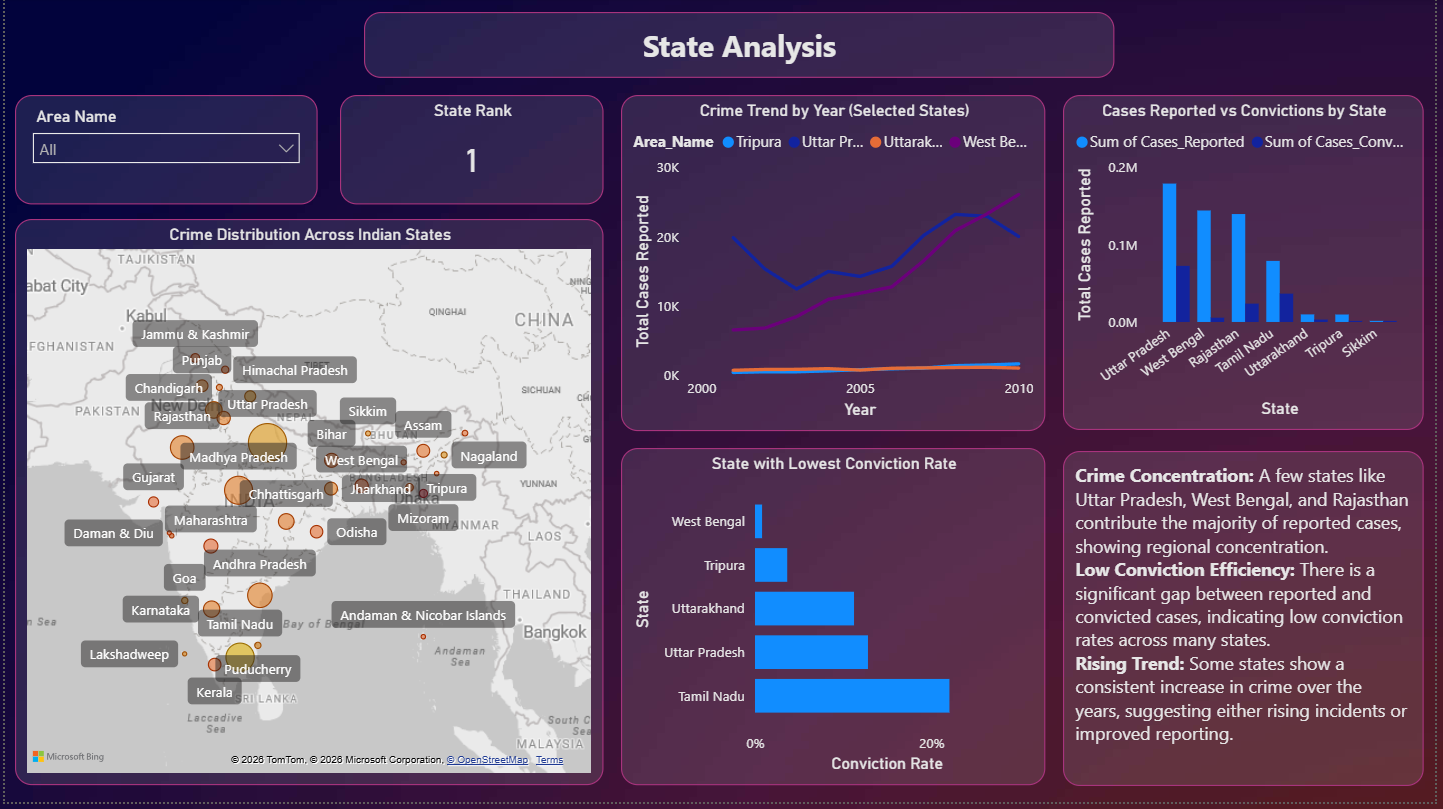

The dashboard page shown, as its layout file describes it:
{"tool":"powerbi","page":{"name":"State-wise Analysis","canvas":[1280,720],"ordinal":1},"visuals":[{"type":"map","title":"Crime Distribution Across Indian States","fields":{"Size":["Sum(CrimeData.Cases_Convicted)"],"Category":["CrimeData.Area_Name"]},"box":[8.6,198.1,527,507.5],"z":0},{"type":"lineChart","title":"Crime Trend by Year (Selected States)","fields":{"Category":["CrimeData.Year"],"Y":["Sum(CrimeData.Cases_Reported)"],"Series":["CrimeData.Area_Name"]},"box":[551.6,86.4,380.1,300.5],"z":2000},{"type":"slicer","fields":{"Values":["CrimeData.Area_Name","CrimeData.Year","CrimeData.Group_Name"]},"box":[8.6,86.8,271.5,97.8],"z":3000},{"type":"textbox","box":[321.1,12.3,672.4,59],"z":4000},{"type":"card","title":"State Rank","fields":{"Values":["CrimeData.State Rank"]},"box":[299.6,86.8,236,97.8],"z":5000},{"type":"clusteredColumnChart","title":"Cases Reported vs Convictions by State","fields":{"Category":["CrimeData.Area_Name"],"Y":["Sum(CrimeData.Cases_Reported)","Sum(CrimeData.Cases_Convicted)"]},"box":[947.7,86.8,322.8,299.6],"z":6000},{"type":"clusteredBarChart","title":"State with Lowest Conviction Rate","fields":{"Category":["CrimeData.Area_Name"],"Y":["CrimeData.Conviction Rate"]},"box":[551.7,403.3,380,301.7],"z":7000},{"type":"textbox","box":[947.7,406,322.8,299.6],"z":7001}]}

Visuals, with their boxes in screenshot pixels (x1, y1, x2, y2), scaled from the page's 1280x720 canvas onto the 1443x809 screenshot:
"Crime Distribution Across Indian States" map: (10, 223, 604, 793)
"Crime Trend by Year (Selected States)" lineChart: (622, 97, 1050, 435)
slicer - CrimeData.Area_Name x CrimeData.Year: (10, 98, 316, 207)
textbox: (362, 14, 1120, 80)
"State Rank" card: (338, 98, 604, 207)
"Cases Reported vs Convictions by State" clusteredColumnChart: (1068, 98, 1432, 434)
"State with Lowest Conviction Rate" clusteredBarChart: (622, 453, 1050, 792)
textbox: (1068, 456, 1432, 793)
